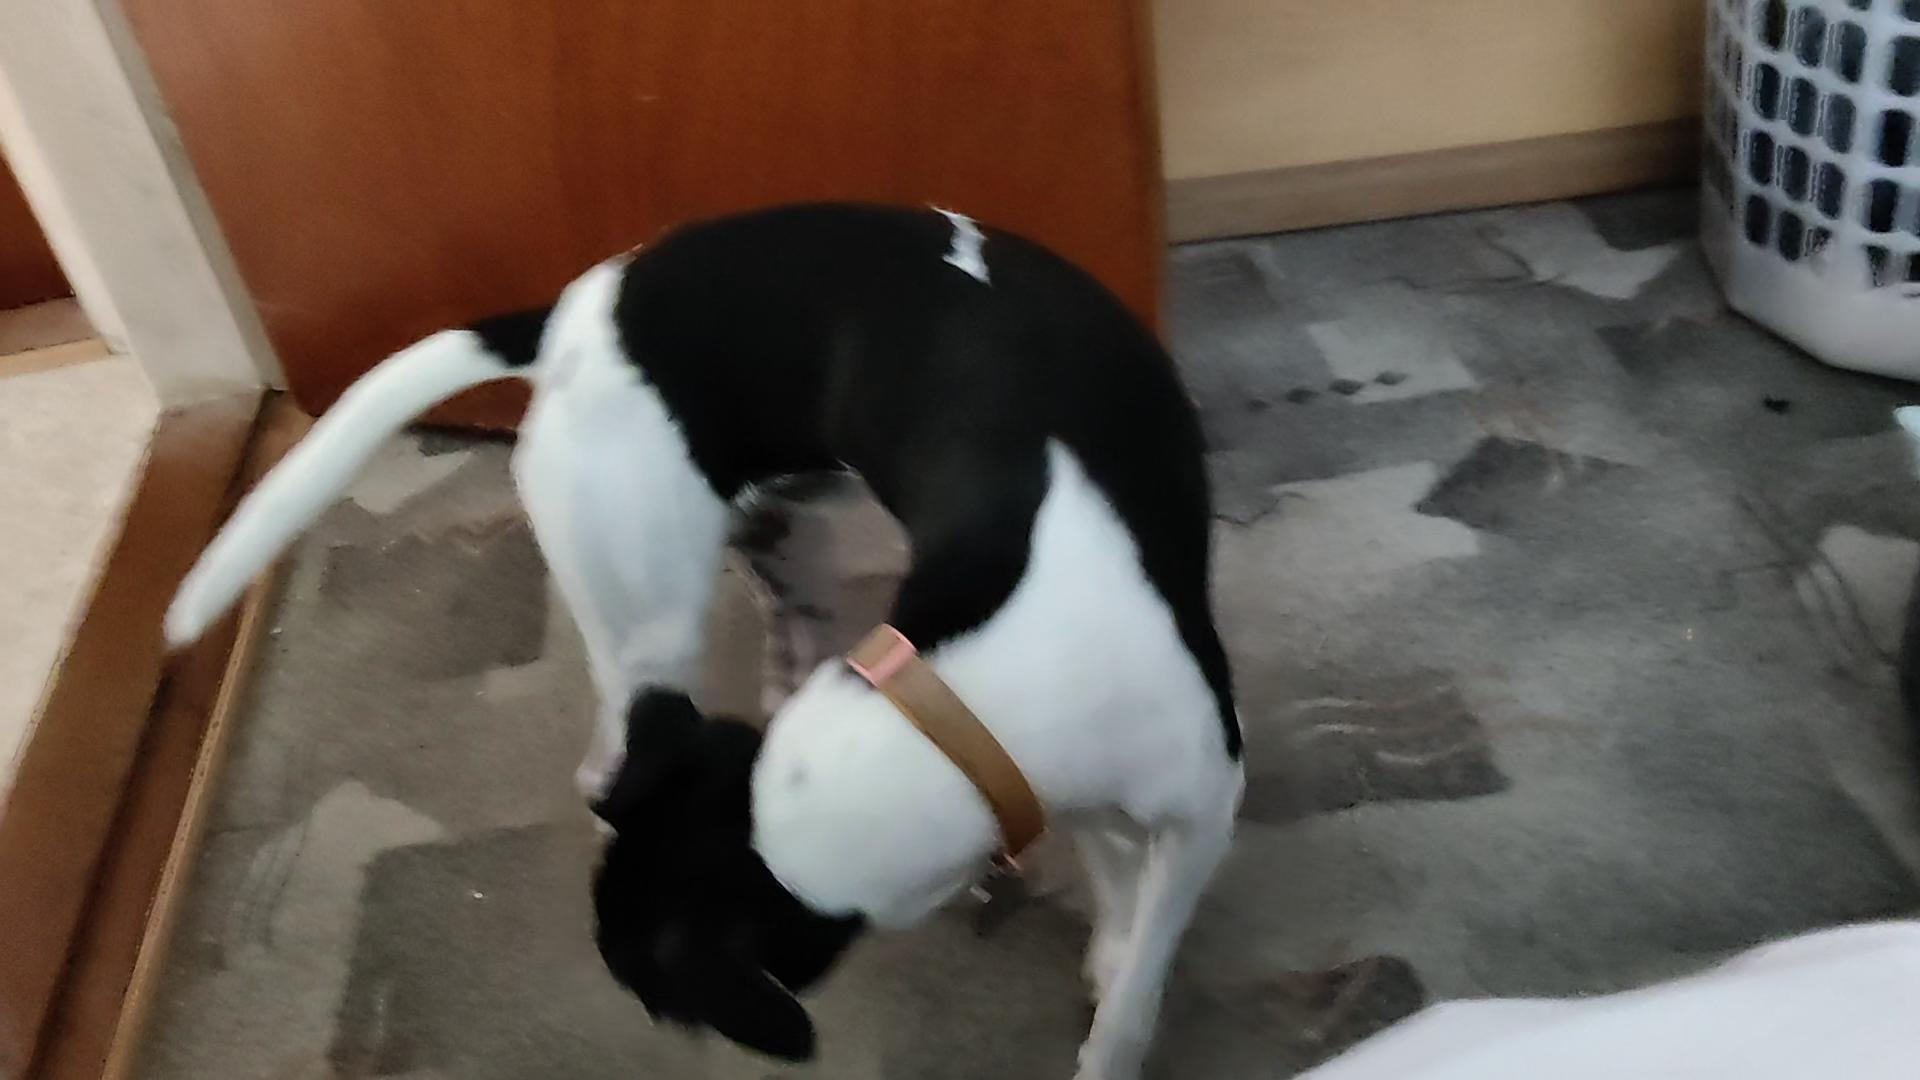Dog: (158, 191, 1259, 1079)
